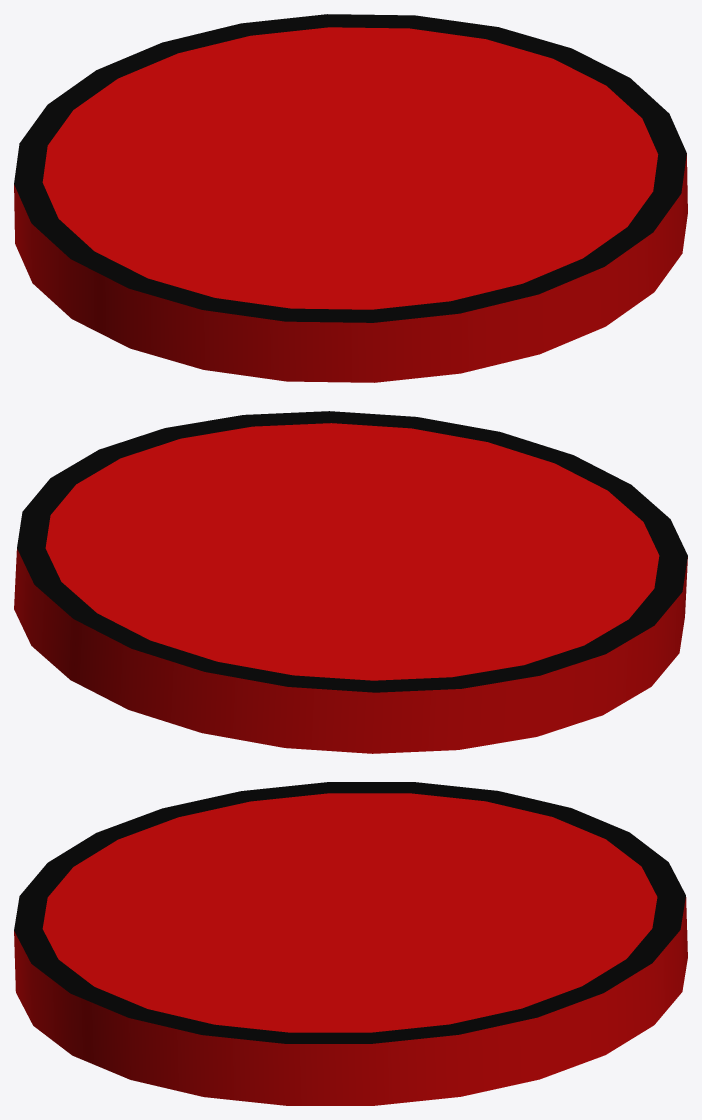
Rendered from Puck.obj.
The picture shows the model from 3 angles, top to bottom: view 1: azimuth 30°, elevation 25°; view 2: azimuth 150°, elevation 25°; view 3: azimuth 270°, elevation 25°; orthographic projection.
Bounding box in the file's own units: 0.0635 × 0.00916 × 0.0635.
